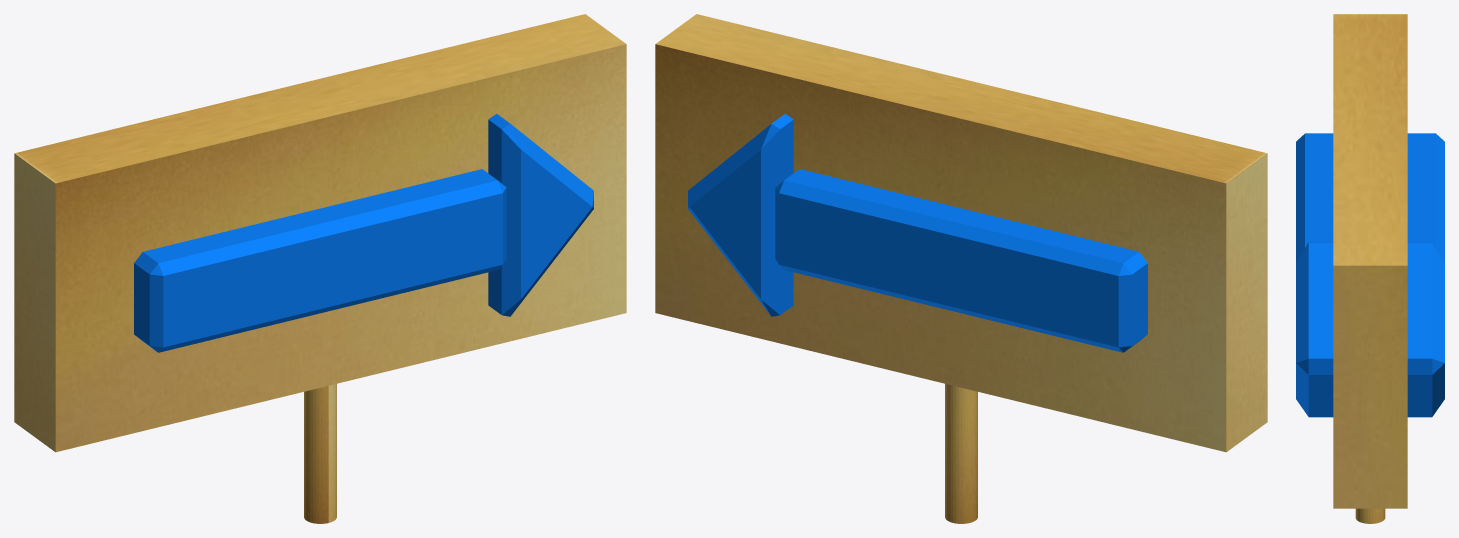
3 views of the same model, side by side, from view 1: azimuth 30°, elevation 25°; view 2: azimuth 150°, elevation 25°; view 3: azimuth 270°, elevation 25° (orthographic). The views are drawn at different scales.
Visible parts, largest first — view 1: 立方体.002, 立方体, 円柱; view 2: 立方体.002, 立方体, 円柱; view 3: 立方体.002, 立方体, 円柱.
Boxes of the visible parts, bbox=[...] form: 立方体.002: bbox=[14, 14, 626, 452]; 立方体: bbox=[134, 113, 593, 352]; 円柱: bbox=[304, 384, 336, 523]; 立方体.002: bbox=[655, 14, 1267, 452]; 立方体: bbox=[688, 113, 1147, 352]; 円柱: bbox=[945, 384, 977, 523]; 立方体.002: bbox=[1333, 14, 1407, 508]; 立方体: bbox=[1296, 133, 1444, 417]; 円柱: bbox=[1355, 508, 1385, 523].
Bounding box in the file's own units: 400 × 280 × 100.
Materials: 3 (3 with a texture image).
